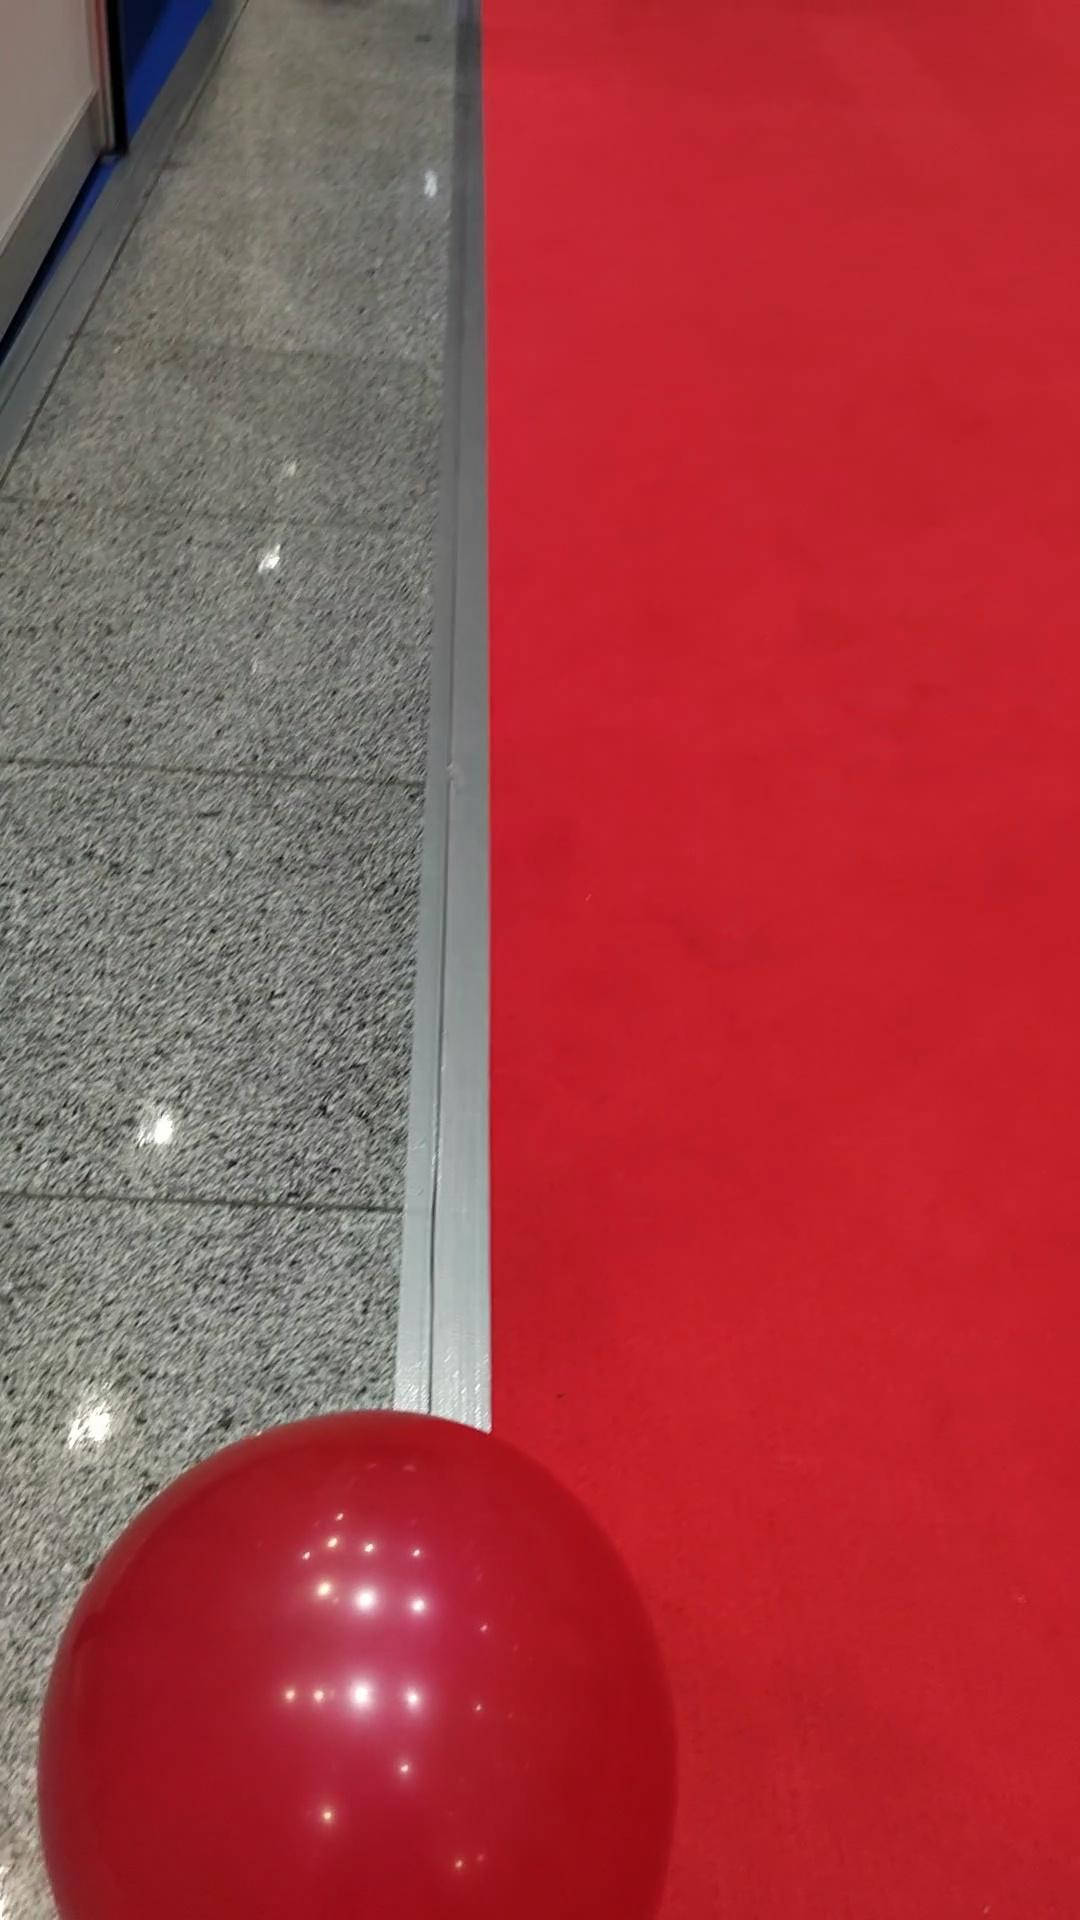red: (26, 1395, 687, 1920)
